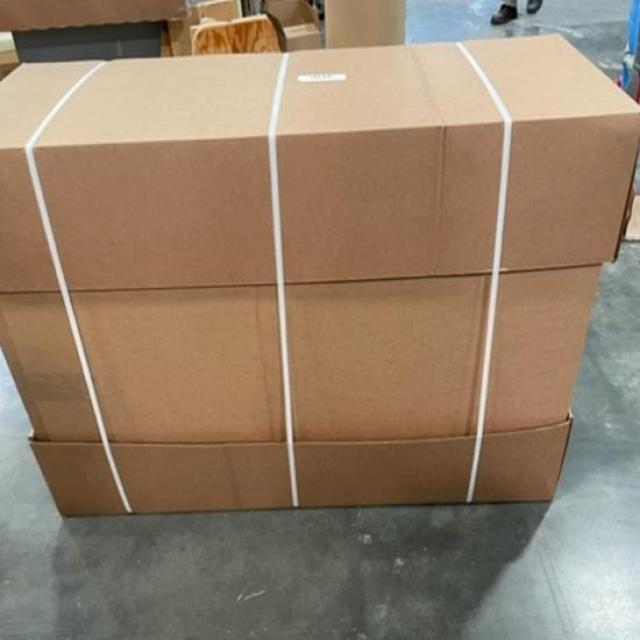cardboard: (0, 33, 640, 294), (4, 258, 602, 440), (29, 406, 571, 521)
